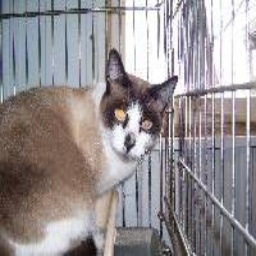cat: (2, 46, 182, 256)
